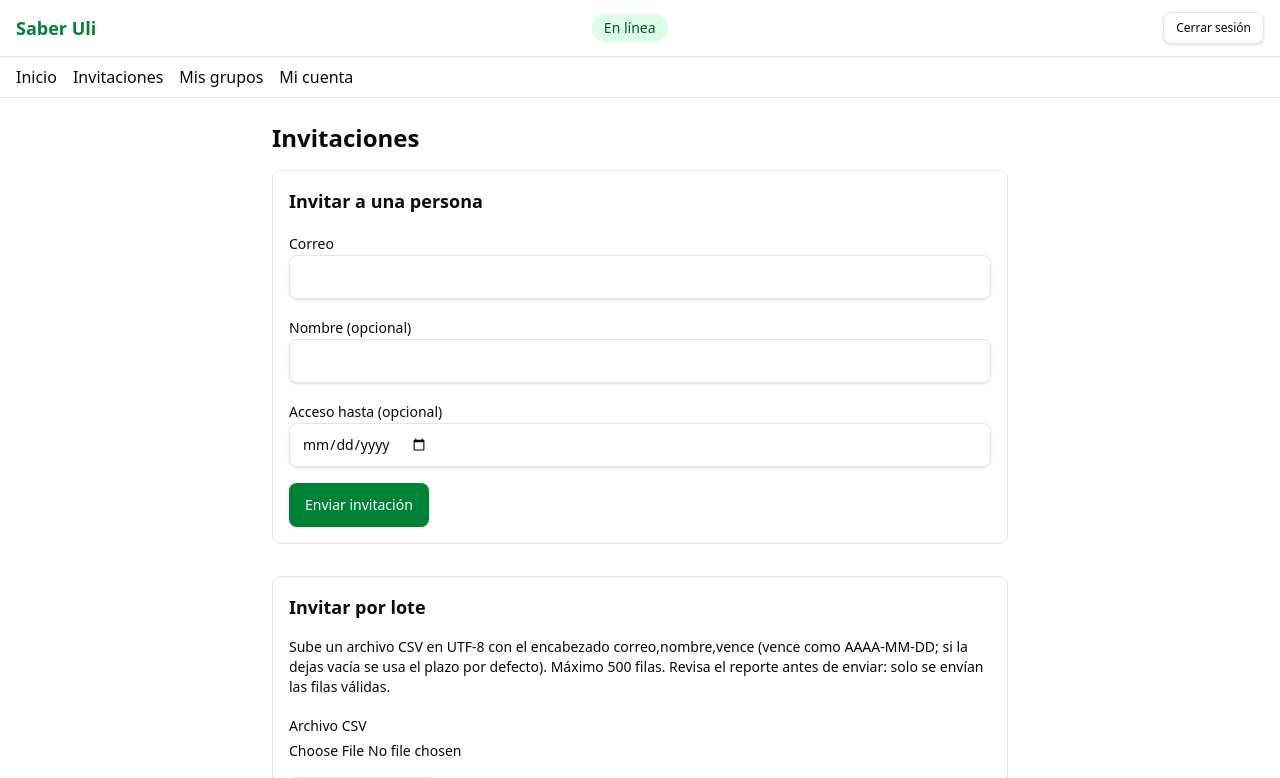
invitar a una persona › muestra el rechazo del servidor institutional-email-not-invitable
This screenshot has width=1280, height=778.
Type "laura@correo.co" into the field labelled "Correo" at [640, 277], box [289, 255, 991, 299]
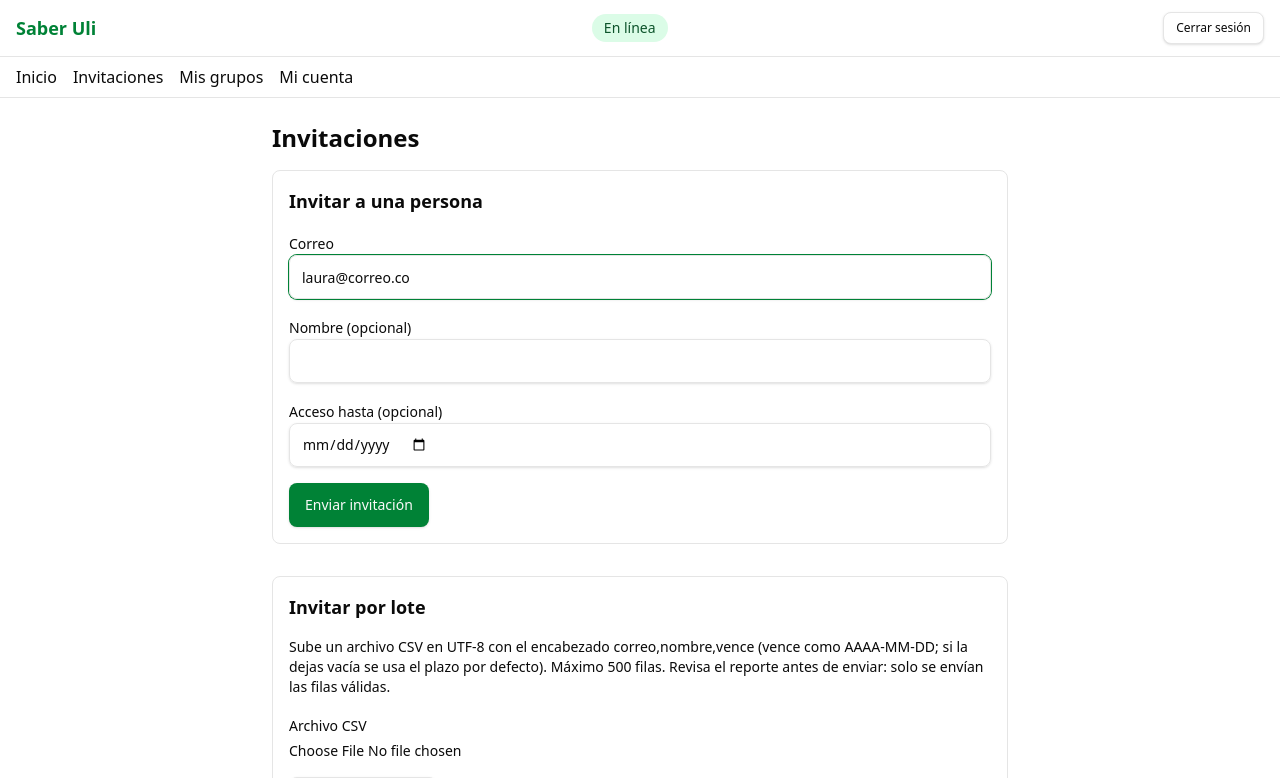
Click the button "Enviar invitación" at [359, 505], box [289, 483, 429, 527]
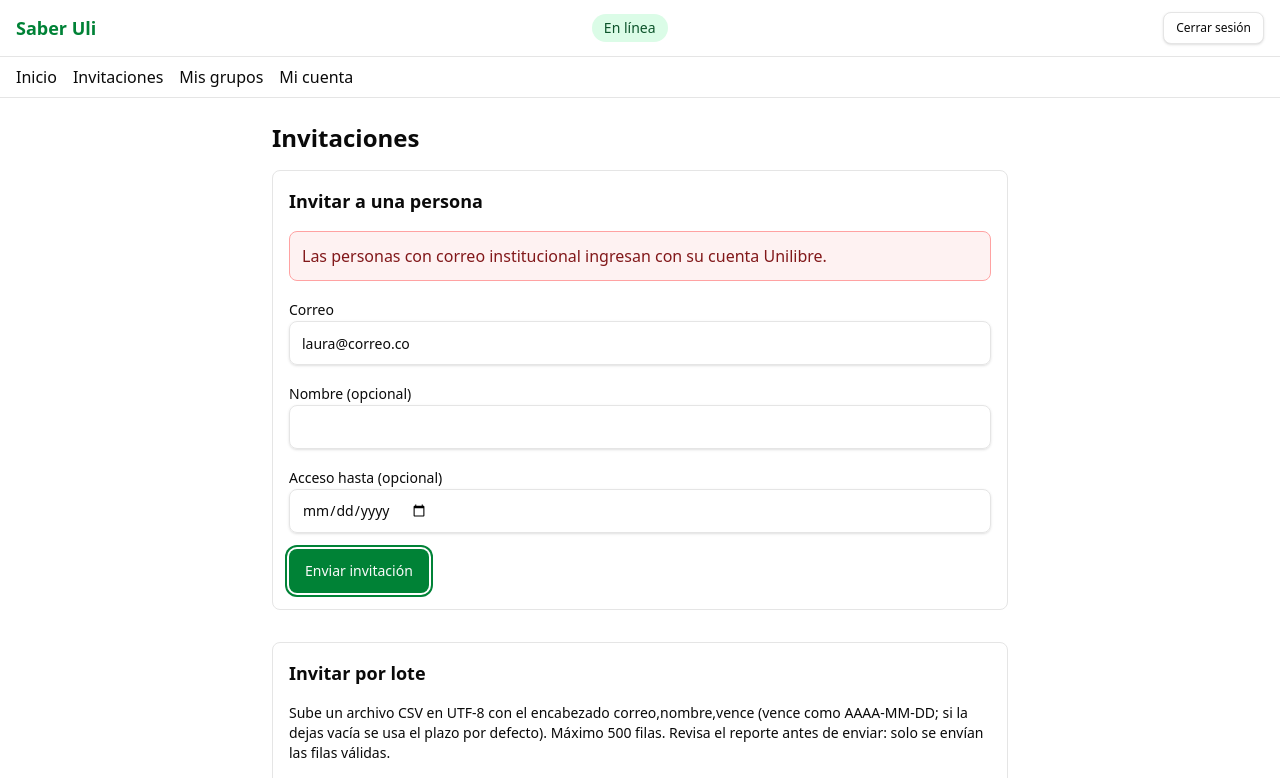
expect the message "Las personas con correo institucional ingresan con su cuenta Unilibre." is shown: met, box [289, 231, 991, 281]
